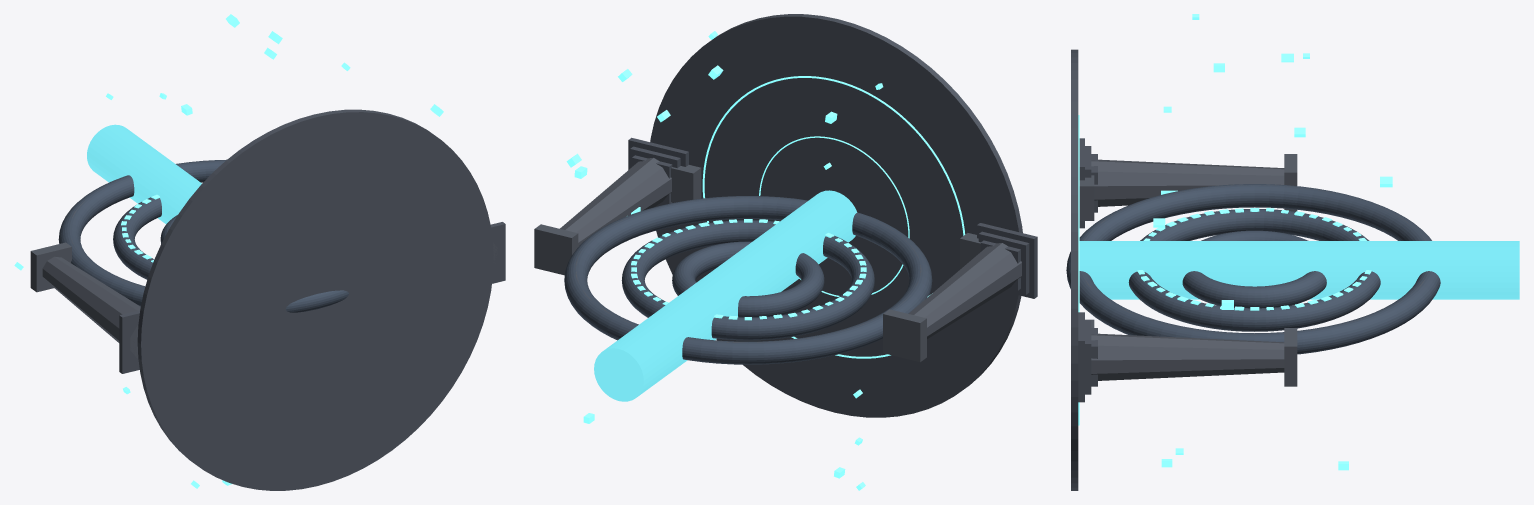
The model's file is world-gate.glb.
3 renders of one model, left to right at view 1: azimuth 30°, elevation 25°; view 2: azimuth 150°, elevation 25°; view 3: azimuth 270°, elevation 25°, orthographic. The views are drawn at different scales.
Visible parts, largest first — view 1: Plaza, LightWell, Ring_Outer, Pillar_West, Ring_Middle, PillarBase_West, GlyphShards, PillarBase_East; view 2: Plaza, Ring_Outer, LightWell, Ring_Middle, Pillar_West, Pillar_East, Ring_Inner, PillarBase_West, GlyphBand, PillarBase_East, PlazaInlay_Outer, GlyphShards (+3 smaller); view 3: LightWell, Ring_Outer, Ring_Middle, Pillar_East, Pillar_West, Ring_Inner, Plaza, GlyphBand, PillarBase_East, GlyphShards, PillarBase_West, RingCollar_West.
Boxes of the visible parts, left/top/right/bottom form: Plaza: left=137, top=109, right=493, bottom=490; LightWell: left=87, top=124, right=201, bottom=223; Ring_Outer: left=58, top=159, right=348, bottom=312; Pillar_West: left=30, top=242, right=140, bottom=358; Ring_Middle: left=113, top=197, right=161, bottom=279; PillarBase_West: left=119, top=310, right=139, bottom=373; GlyphShards: left=14, top=14, right=443, bottom=488; PillarBase_East: left=490, top=222, right=505, bottom=283; Plaza: left=650, top=14, right=1022, bottom=417; Ring_Outer: left=564, top=196, right=932, bottom=364; LightWell: left=594, top=190, right=857, bottom=401; Ring_Middle: left=621, top=220, right=874, bottom=340; Pillar_West: left=883, top=243, right=1021, bottom=362; Pillar_East: left=534, top=158, right=671, bottom=275; Ring_Inner: left=672, top=241, right=824, bottom=317; PillarBase_West: left=977, top=223, right=1037, bottom=298; GlyphBand: left=631, top=207, right=932, bottom=320; PillarBase_East: left=628, top=137, right=688, bottom=206; PlazaInlay_Outer: left=702, top=76, right=965, bottom=358; GlyphShards: left=566, top=31, right=883, bottom=490; LightWell: left=1079, top=241, right=1519, bottom=299; Ring_Outer: left=1066, top=184, right=1440, bottom=354; Ring_Middle: left=1128, top=209, right=1380, bottom=331; Pillar_East: left=1091, top=328, right=1297, bottom=386; Pillar_West: left=1091, top=154, right=1297, bottom=211; Ring_Inner: left=1182, top=230, right=1326, bottom=308; Plaza: left=1071, top=49, right=1078, bottom=490; GlyphBand: left=1137, top=190, right=1371, bottom=310; PillarBase_East: left=1078, top=312, right=1097, bottom=402; GlyphShards: left=1153, top=14, right=1392, bottom=470; PillarBase_West: left=1079, top=138, right=1097, bottom=228; RingCollar_West: left=1079, top=175, right=1094, bottom=220.
Bounding box in the file's own units: 32.6 × 33.6 × 30.8.
